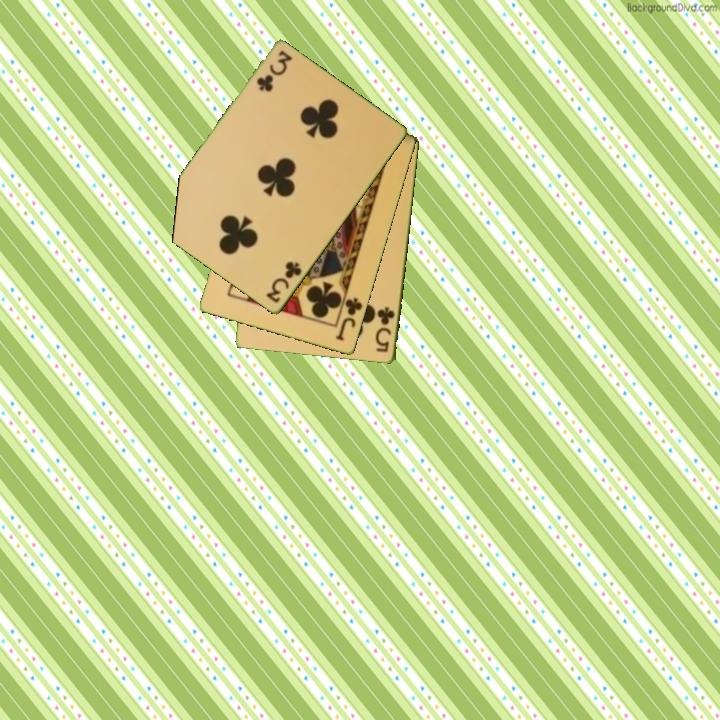3c: (263, 258, 305, 307), (253, 47, 295, 95)
5c: (372, 303, 398, 355)
Jc: (332, 289, 366, 344)
